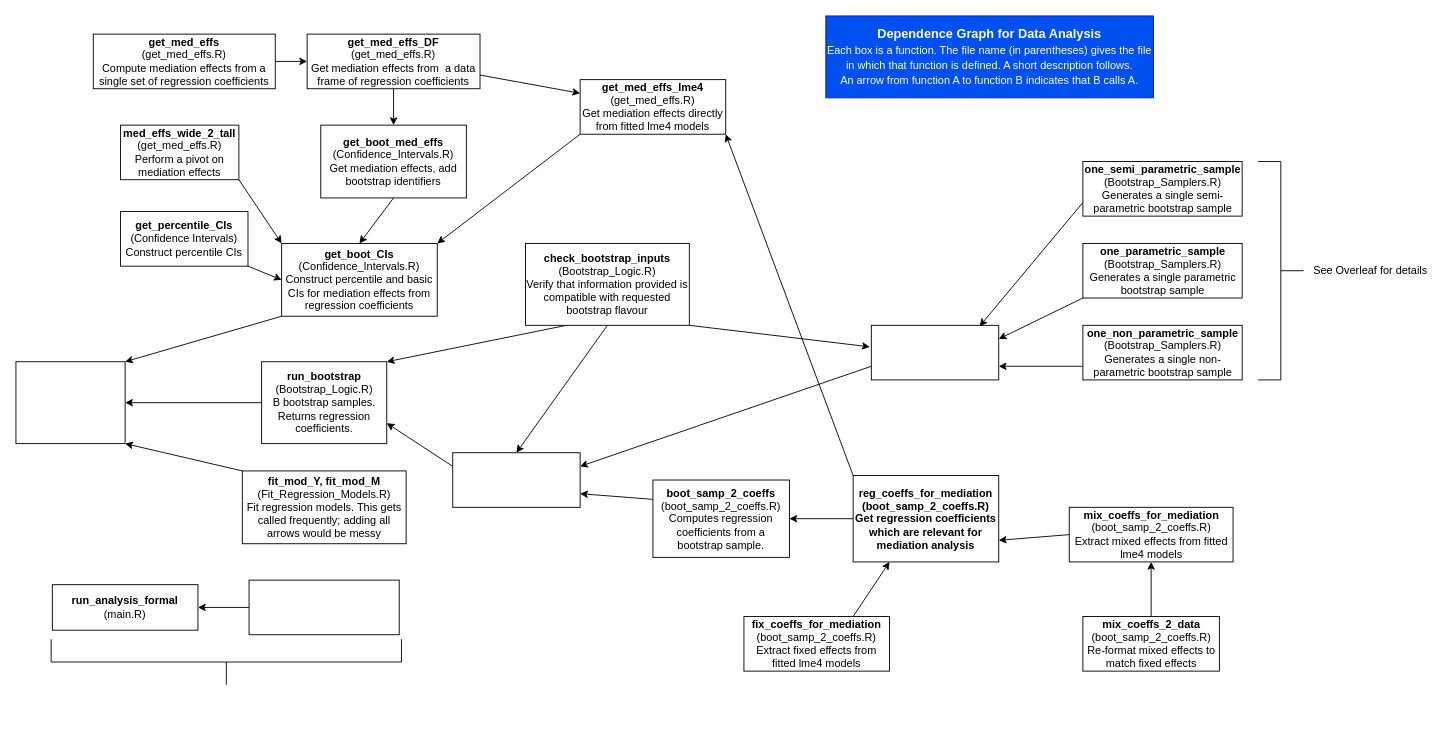
The diagram is 1451 pixels wide and 733 high, and some of its shapes have lost their labels. Here are the shapes that lost their labels. From the top down, the centre of each, then its label:
the point at 934,352: one_bootstrap_sample (Bootstrap_Logic.R) Generates a single bootstrap sample
the point at 70,402: run_analysis (main.R) Performs bootstrap analysis. Returns confidence intervals.
the point at 516,479: one_bootstrap (Bootstrap_Logic.R)
the point at 323,607: fit_mod_Y_formal, fit_mod_M_formal (Fit_Regression_Models.R)
the point at 225,661: See Overleaf for differences from non-formal counterparts
